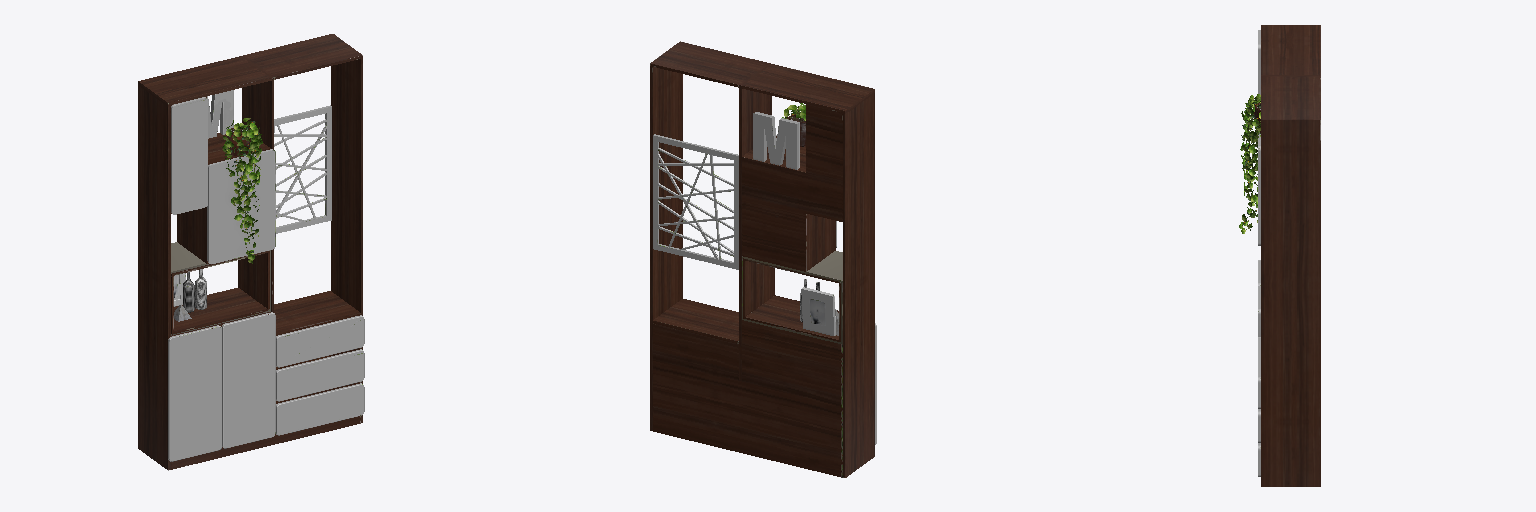
The picture shows the model from 3 angles: view 1: azimuth 30°, elevation 25°; view 2: azimuth 150°, elevation 25°; view 3: azimuth 270°, elevation 25°; orthographic projection.
Visible parts, largest first — view 1: solid_005, solid_008, solid_009, glass_002, solid_006, solid_010; view 2: solid_005, solid_008, solid_009, solid_006, solid_007; view 3: solid_005, solid_008, glass_002.
Part boxes in pixels (left/top/right/bottom): solid_005: left=138, top=34, right=362, bottom=470; solid_008: left=168, top=97, right=364, bottom=461; solid_009: left=207, top=90, right=233, bottom=138; glass_002: left=223, top=123, right=261, bottom=247; solid_006: left=171, top=242, right=270, bottom=335; solid_010: left=222, top=120, right=262, bottom=259; solid_005: left=650, top=41, right=874, bottom=477; solid_008: left=653, top=134, right=876, bottom=444; solid_009: left=753, top=112, right=799, bottom=169; solid_006: left=742, top=251, right=842, bottom=344; solid_007: left=801, top=287, right=835, bottom=335; solid_005: left=1261, top=25, right=1320, bottom=486; solid_008: left=1258, top=30, right=1260, bottom=476; glass_002: left=1241, top=97, right=1260, bottom=221.
Size of the model in its own units: 1.12 by 2.02 by 0.4067.
Materials: 1 (1 with a texture image).